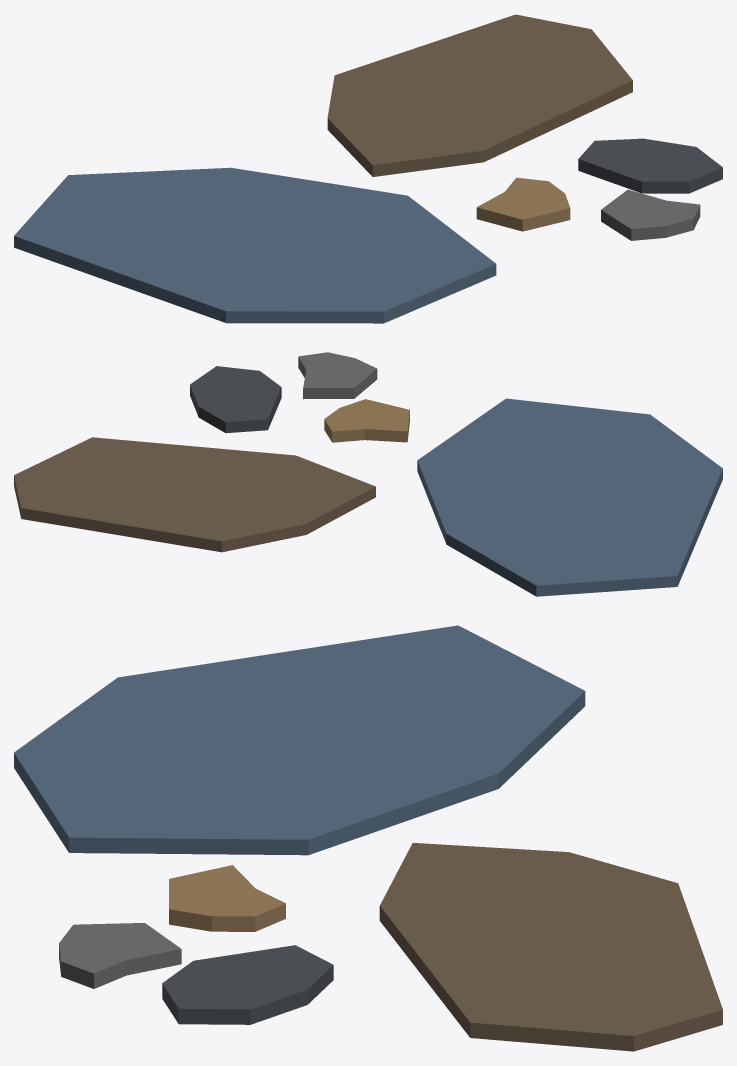
File: AW_Stone03.fbx
3 views of the same model, one above another, from view 1: azimuth 30°, elevation 25°; view 2: azimuth 150°, elevation 25°; view 3: azimuth 270°, elevation 25° (orthographic). The views are drawn at different scales.
Parts seen in each view (by area): view 1: AW_Stone03; view 2: AW_Stone03; view 3: AW_Stone03.
Boxes of the visible parts, x1=… form: AW_Stone03: x1=14, y1=14, x2=722, y2=323; AW_Stone03: x1=14, y1=352, x2=722, y2=596; AW_Stone03: x1=14, y1=625, x2=722, y2=1051.
Bounding box in the file's own units: 110 × 1.93 × 80.39.
1 material, 1 textured.
